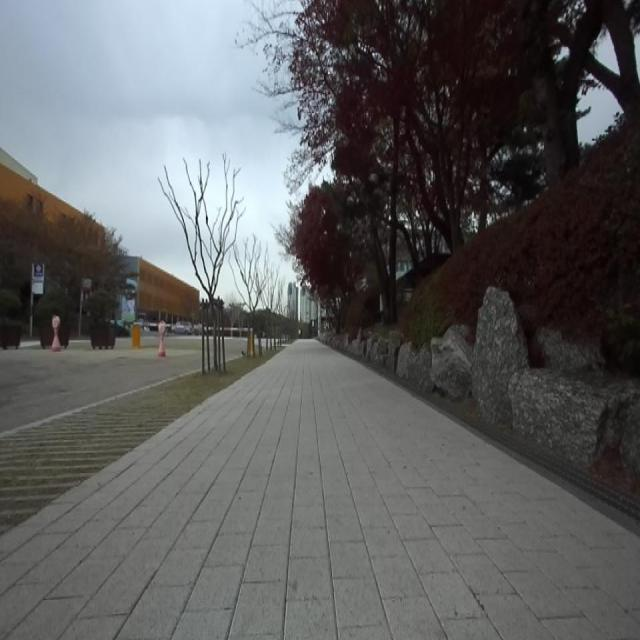sidewalk: (0, 340, 640, 639)
